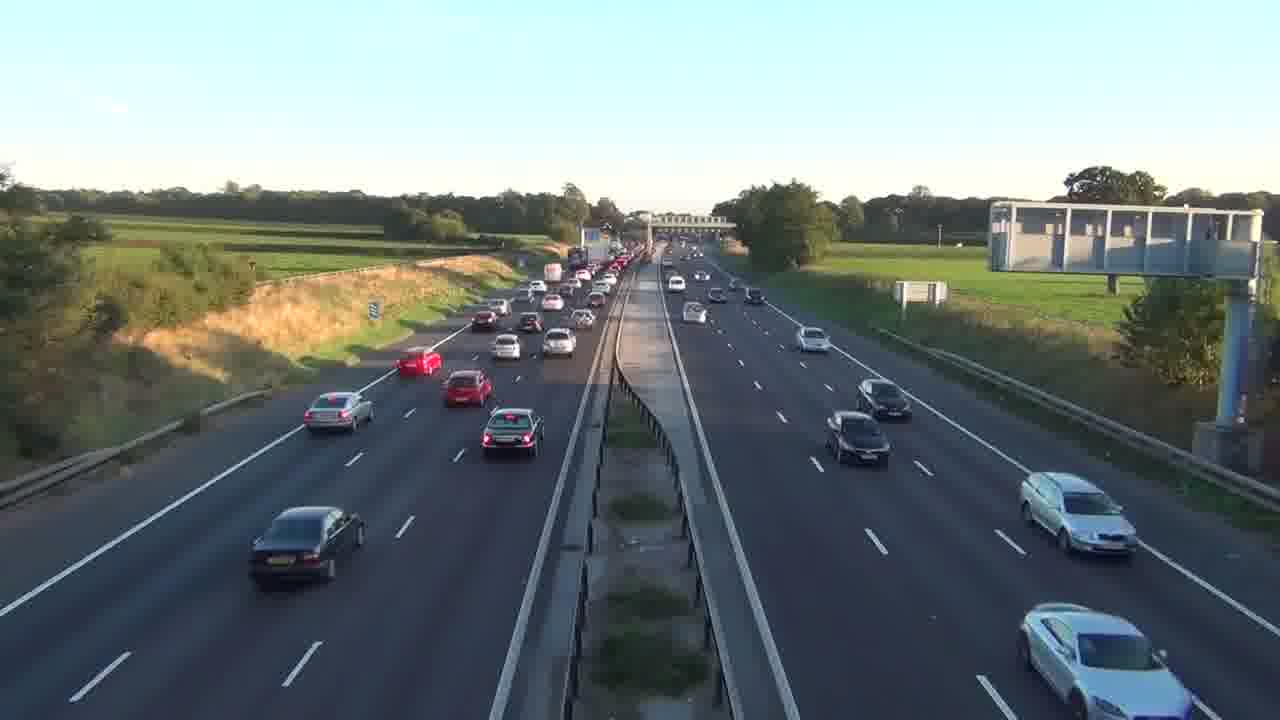car: (1019, 470, 1139, 557), (248, 504, 366, 590), (824, 408, 894, 467), (479, 407, 545, 458), (303, 390, 373, 434), (857, 377, 913, 422), (442, 368, 494, 407), (397, 349, 443, 377), (542, 328, 576, 358), (493, 333, 521, 361)
truck: (1017, 600, 1221, 719)
